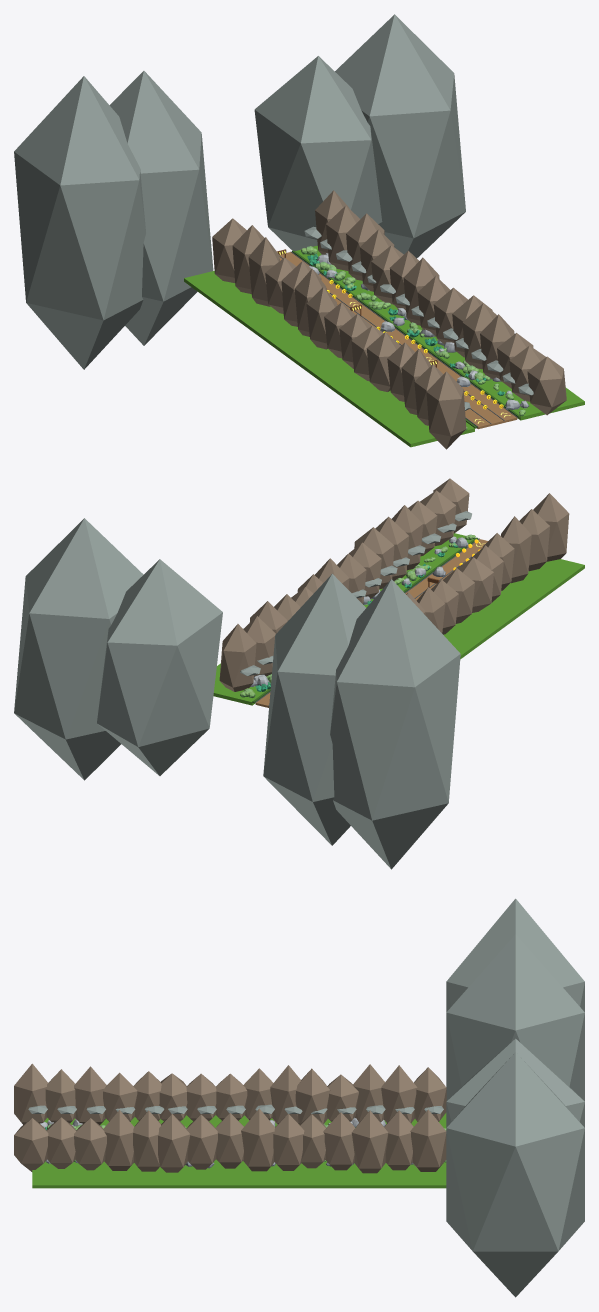
Rendered from canyon_72m.glb.
3 views of the same model, one above another, from view 1: azimuth 30°, elevation 25°; view 2: azimuth 150°, elevation 25°; view 3: azimuth 270°, elevation 25° (orthographic). The views are drawn at different scales.
Visible parts, largest first — view 1: Distant_mountain.004, Distant_mountain.007, Distant_mountain.006, Distant_mountain.005, Terrain_bank.012, Terrain_bank.014, Terrain_bank.016, Faceted_canyon_wall, Faceted_canyon_wall.005, Running_surface.006, Faceted_canyon_wall.024, Faceted_canyon_wall.022 (+30 smaller); view 2: Distant_mountain.004, Distant_mountain.007, Distant_mountain.006, Distant_mountain.005, Terrain_bank.012, Faceted_canyon_wall.029, Terrain_bank.014, Faceted_canyon_wall, Faceted_canyon_wall.002, Faceted_canyon_wall.001, Faceted_canyon_wall.010, Faceted_canyon_wall.028 (+17 smaller); view 3: Distant_mountain.007, Distant_mountain.005, Distant_mountain.004, Terrain_bank.015, Terrain_bank.013, Distant_mountain.006, Terrain_bank.017, Faceted_canyon_wall.029, Faceted_canyon_wall.027, Faceted_canyon_wall.018, Faceted_canyon_wall.015, Faceted_canyon_wall.008 (+25 smaller).
Boxes of the visible parts, x1,y1,x2,y2 form: Distant_mountain.004: (14,76,145,369); Distant_mountain.007: (335,14,465,258); Distant_mountain.006: (254,56,382,250); Distant_mountain.005: (109,71,213,345); Terrain_bank.012: (335,381,474,447); Terrain_bank.014: (259,325,366,391); Terrain_bank.016: (184,271,290,336); Faceted_canyon_wall: (426,371,466,449); Faceted_canyon_wall.005: (527,356,566,415); Running_surface.006: (434,362,517,429); Faceted_canyon_wall.024: (212,218,246,282); Faceted_canyon_wall.022: (248,237,279,306); Distant_mountain.004: (330,579,460,869); Distant_mountain.007: (14,518,143,780); Distant_mountain.006: (97,559,222,775); Distant_mountain.005: (263,573,365,845); Terrain_bank.012: (479,559,584,622); Faceted_canyon_wall.029: (219,624,256,691); Terrain_bank.014: (443,612,510,659); Faceted_canyon_wall: (533,493,569,561); Faceted_canyon_wall.002: (501,516,531,583); Faceted_canyon_wall.001: (519,509,549,571); Faceted_canyon_wall.010: (456,557,493,612); Faceted_canyon_wall.028: (243,616,275,676); Distant_mountain.007: (446,1052,584,1297); Distant_mountain.005: (446,934,584,1101); Distant_mountain.004: (446,898,584,1011); Terrain_bank.015: (172,1159,311,1188); Terrain_bank.013: (32,1161,171,1188); Distant_mountain.006: (446,1038,584,1127); Terrain_bank.017: (312,1161,446,1188); Faceted_canyon_wall.029: (410,1109,446,1171); Faceted_canyon_wall.027: (351,1110,388,1173); Faceted_canyon_wall.018: (241,1108,275,1171); Faceted_canyon_wall.015: (158,1114,190,1172); Faceted_canyon_wall.008: (103,1110,134,1170).
Bounding box in the file's own units: 78.57 × 51.59 × 98.06.
Materials: 13 (2 with a texture image).
